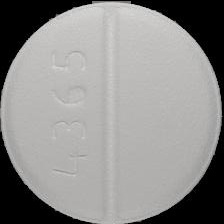0172-4365: (0, 0, 224, 224)
